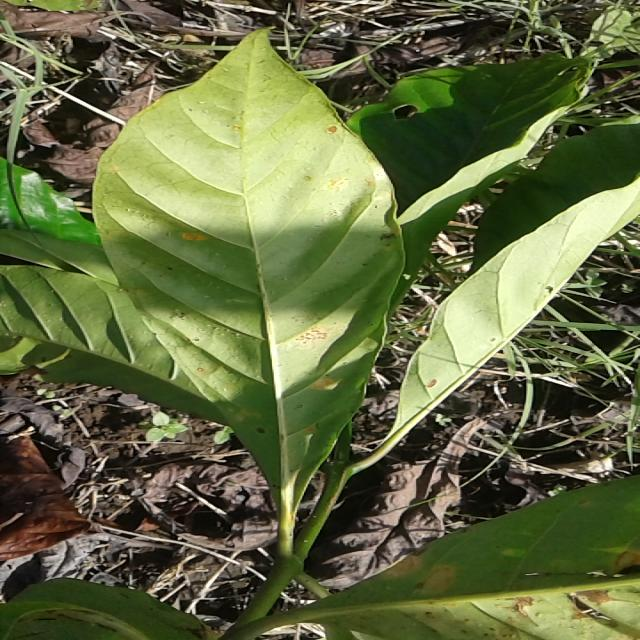Enfermedad-Roya: (92, 29, 404, 566)
